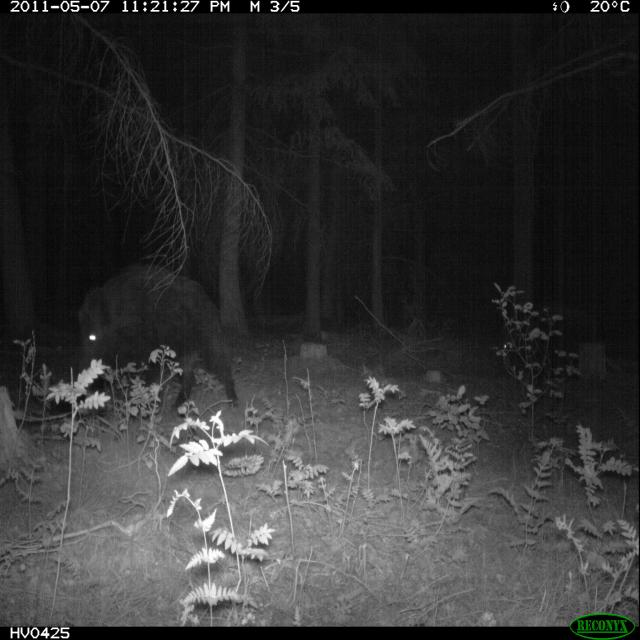boar: (53, 230, 258, 454)
